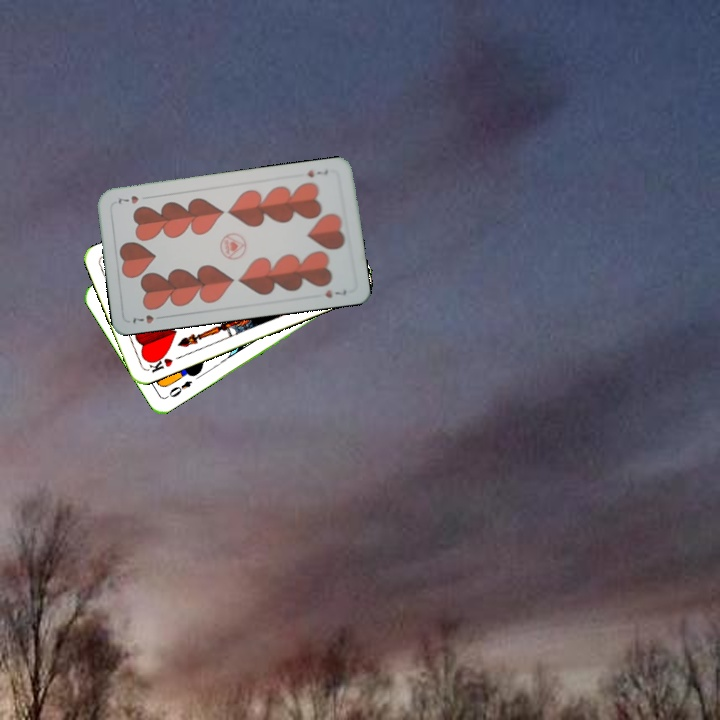EO: (162, 376, 195, 401)
H7: (128, 311, 167, 326), (303, 165, 331, 180)
HK: (144, 350, 176, 375)
